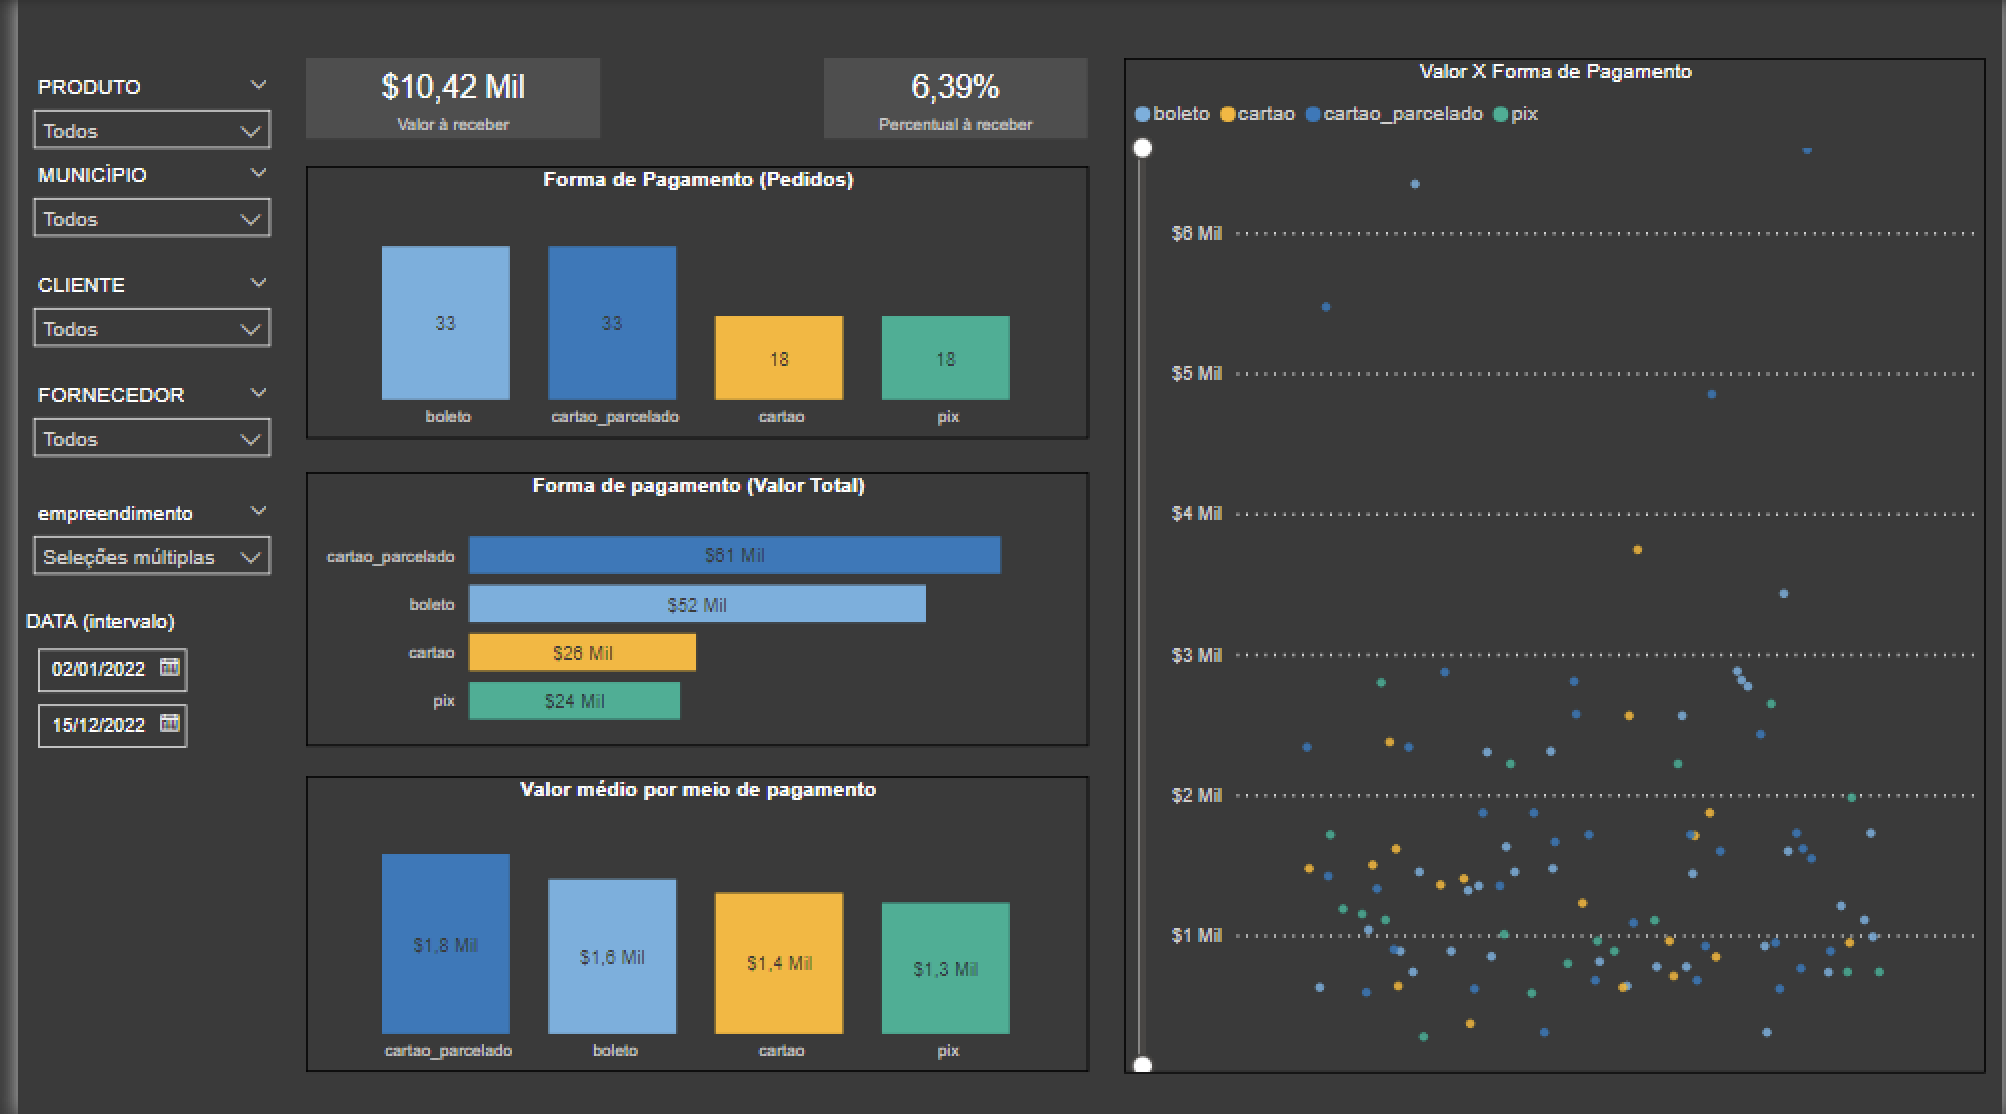

The dashboard page shown, as its layout file describes it:
{"tool":"powerbi","page":{"name":"Pagamentos","canvas":[1280,720],"ordinal":1},"visuals":[{"type":"scatterChart","title":"Valor X Forma de Pagamento","fields":{"Y":["Flora_pedidos.valor_total"],"Series":["Flora_pedidos.forma_pagamento"],"X":["Flora_pedidos.id_pedido"]},"box":[712.9,36.9,555.6,654.8],"z":0},{"type":"clusteredColumnChart","title":"Forma de Pagamento (Pedidos)","fields":{"Category":["Flora_pedidos.forma_pagamento"],"Y":["CountNonNull(Flora_pedidos.quantidade)"]},"box":[185.7,107.7,504.6,175.7],"z":1000},{"type":"barChart","title":"Forma de pagamento (Valor Total)","fields":{"Category":["Flora_pedidos.forma_pagamento"],"Y":["Sum(Flora_pedidos.valor_total)"]},"box":[185.7,304.7,504.6,177.2],"z":2000},{"type":"card","title":"Inadimplência","fields":{"Values":["Sum(Flora_pagamentos.valor_total)"]},"box":[185.7,36.9,189.9,52.4],"z":3000},{"type":"card","title":"Inadimplência","fields":{"Values":["Novas_medidas.percentual_aberto"]},"box":[520.2,36.9,170.1,52.4],"z":4000},{"type":"slicer","fields":{"Values":["Flora_produtos.nome_produto"]},"box":[0,43.9,172.9,70.9],"z":5000},{"type":"slicer","fields":{"Values":["Flora_clientes.cidade"]},"box":[0,100.6,172.9,70.9],"z":6000},{"type":"slicer","fields":{"Values":["Flora_clientes.nome_cliente"]},"box":[0,171.5,172.9,70.9],"z":7000},{"type":"slicer","fields":{"Values":["Flora_fornecedores.nome_fornecedor"]},"box":[0,242.4,172.9,80.8],"z":8000},{"type":"slicer","title":"DATA (intervalo)","fields":{"Values":["Flora_pedidos.data_pedido"]},"box":[0,394,172.9,106.3],"z":9000},{"type":"slicer","fields":{"Values":["Flora_clientes.empreendimento"]},"box":[0,318.9,172.9,80.8],"z":10000},{"type":"clusteredColumnChart","title":"Valor médio por meio de pagamento","fields":{"Y":["Avg(Flora_pagamentos.valor_total)"],"Category":["Flora_pagamentos.forma_pagamento"]},"box":[185.7,500.3,504.6,191.3],"z":11000}]}

Visuals, with their boxes in screenshot pixels (x1, y1, x2, y2), scaled from the page's 1280x720 canvas onto the 2006x1114 screenshot:
"Valor X Forma de Pagamento" scatterChart: x1=1117, y1=57, x2=1988, y2=1070
"Forma de Pagamento (Pedidos)" clusteredColumnChart: x1=291, y1=167, x2=1082, y2=438
"Forma de pagamento (Valor Total)" barChart: x1=291, y1=471, x2=1082, y2=746
"Inadimplência" card: x1=291, y1=57, x2=589, y2=138
"Inadimplência" card: x1=815, y1=57, x2=1082, y2=138
slicer - Flora_produtos.nome_produto: x1=0, y1=68, x2=271, y2=178
slicer - Flora_clientes.cidade: x1=0, y1=156, x2=271, y2=265
slicer - Flora_clientes.nome_cliente: x1=0, y1=265, x2=271, y2=375
slicer - Flora_fornecedores.nome_fornecedor: x1=0, y1=375, x2=271, y2=500
"DATA (intervalo)" slicer: x1=0, y1=610, x2=271, y2=774
slicer - Flora_clientes.empreendimento: x1=0, y1=493, x2=271, y2=618
"Valor médio por meio de pagamento" clusteredColumnChart: x1=291, y1=774, x2=1082, y2=1070
